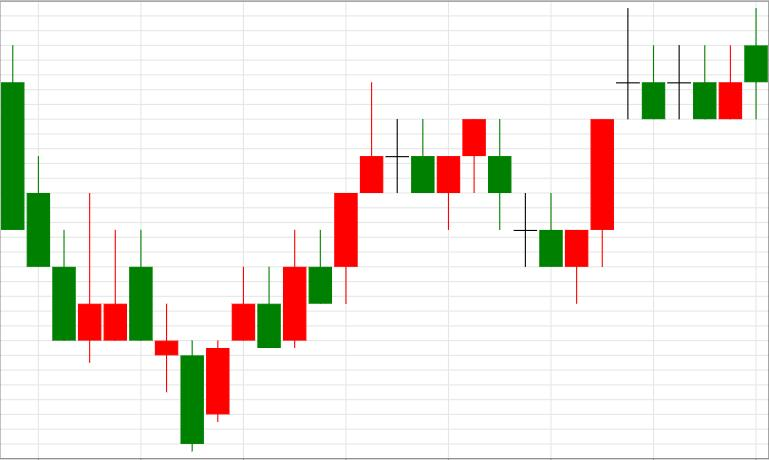hammer_rise: (462, 119, 588, 305)
inverse_hammer_rise: (0, 44, 127, 363), (1, 44, 102, 362)
shooting_star_fall: (283, 83, 383, 348)
